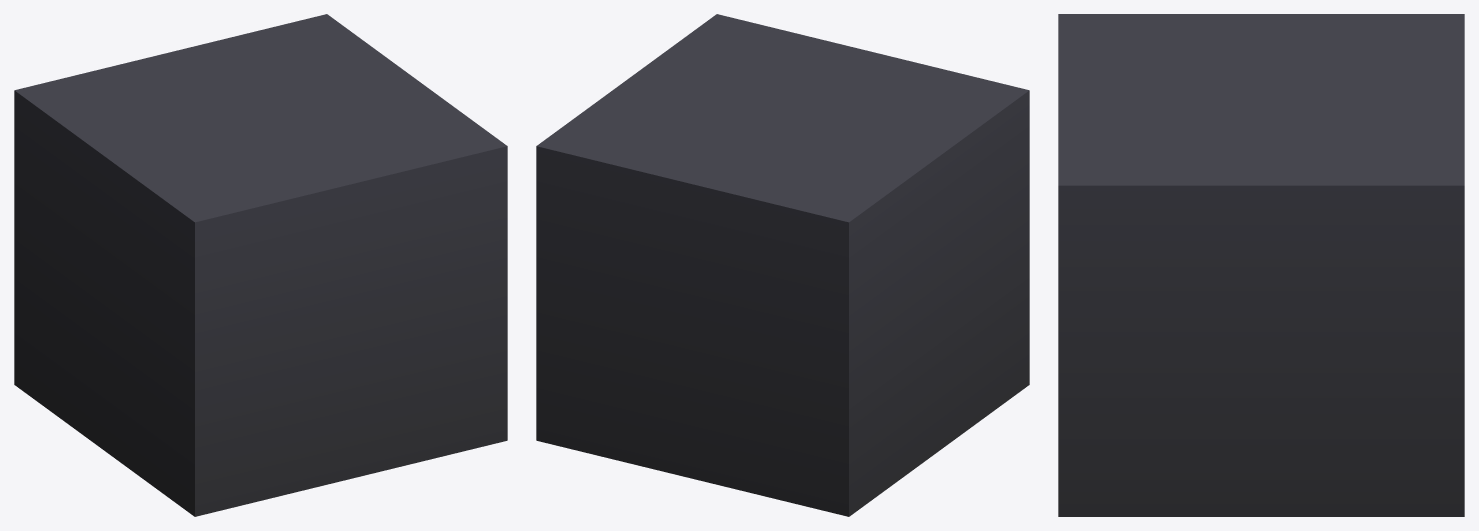
The model's file is dirt.glb.
The picture shows the model from 3 angles, left to right: view 1: azimuth 30°, elevation 25°; view 2: azimuth 150°, elevation 25°; view 3: azimuth 270°, elevation 25°; orthographic projection. The views are drawn at different scales.
Parts seen in each view (by area): view 1: dirt; view 2: dirt; view 3: dirt.
Boxes of the visible parts, left/top/right/bottom form: dirt: left=14, top=14, right=507, bottom=516; dirt: left=536, top=14, right=1029, bottom=516; dirt: left=1058, top=14, right=1464, bottom=516.
Bounding box in the file's own units: 1 × 0.9 × 1.
1 material, 1 textured.
